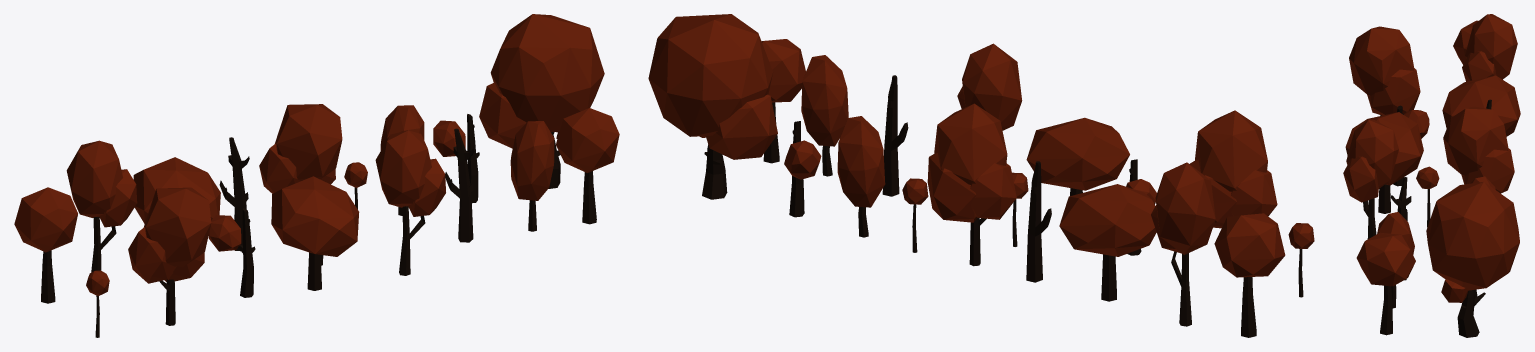
Rendered from forest1.obj.
3 renders of one model, left to right at view 1: azimuth 30°, elevation 25°; view 2: azimuth 150°, elevation 25°; view 3: azimuth 270°, elevation 25°, orthographic. The views are drawn at different scales.
Parts seen in each view (by area): view 1: Icosphere_Icosphere.000, Cylinder.006_Cylinder.013; view 2: Icosphere_Icosphere.000, Cylinder.006_Cylinder.013; view 3: Icosphere_Icosphere.000, Cylinder.006_Cylinder.013.
Part boxes in pixels (x1,y1,x2,y2): Icosphere_Icosphere.000: [14, 14, 619, 296]; Cylinder.006_Cylinder.013: [41, 114, 596, 337]; Icosphere_Icosphere.000: [648, 14, 1314, 277]; Cylinder.006_Cylinder.013: [702, 75, 1303, 337]; Icosphere_Icosphere.000: [1343, 14, 1520, 302]; Cylinder.006_Cylinder.013: [1363, 99, 1491, 337].
Size of the model in its own units: 63.21 by 17.8 by 19.02.
